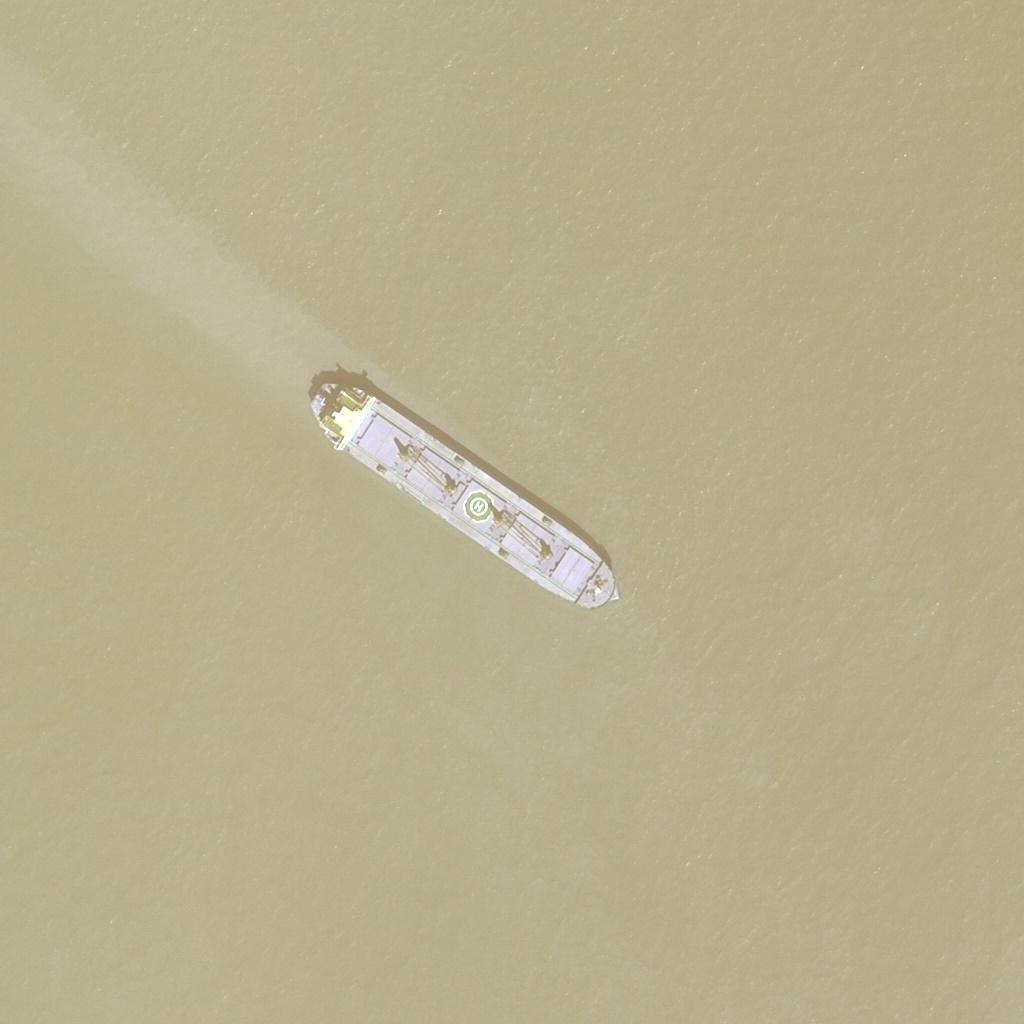ship: (313, 378, 628, 610)
